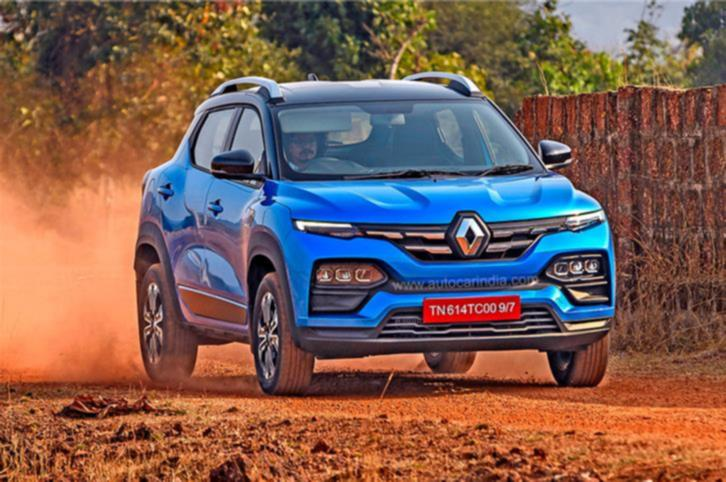Renault: (443, 205, 497, 268)
